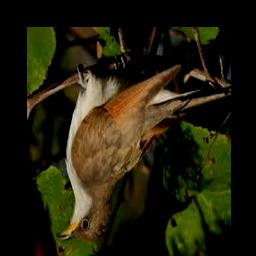Cuckoo: (57, 64, 184, 242)
